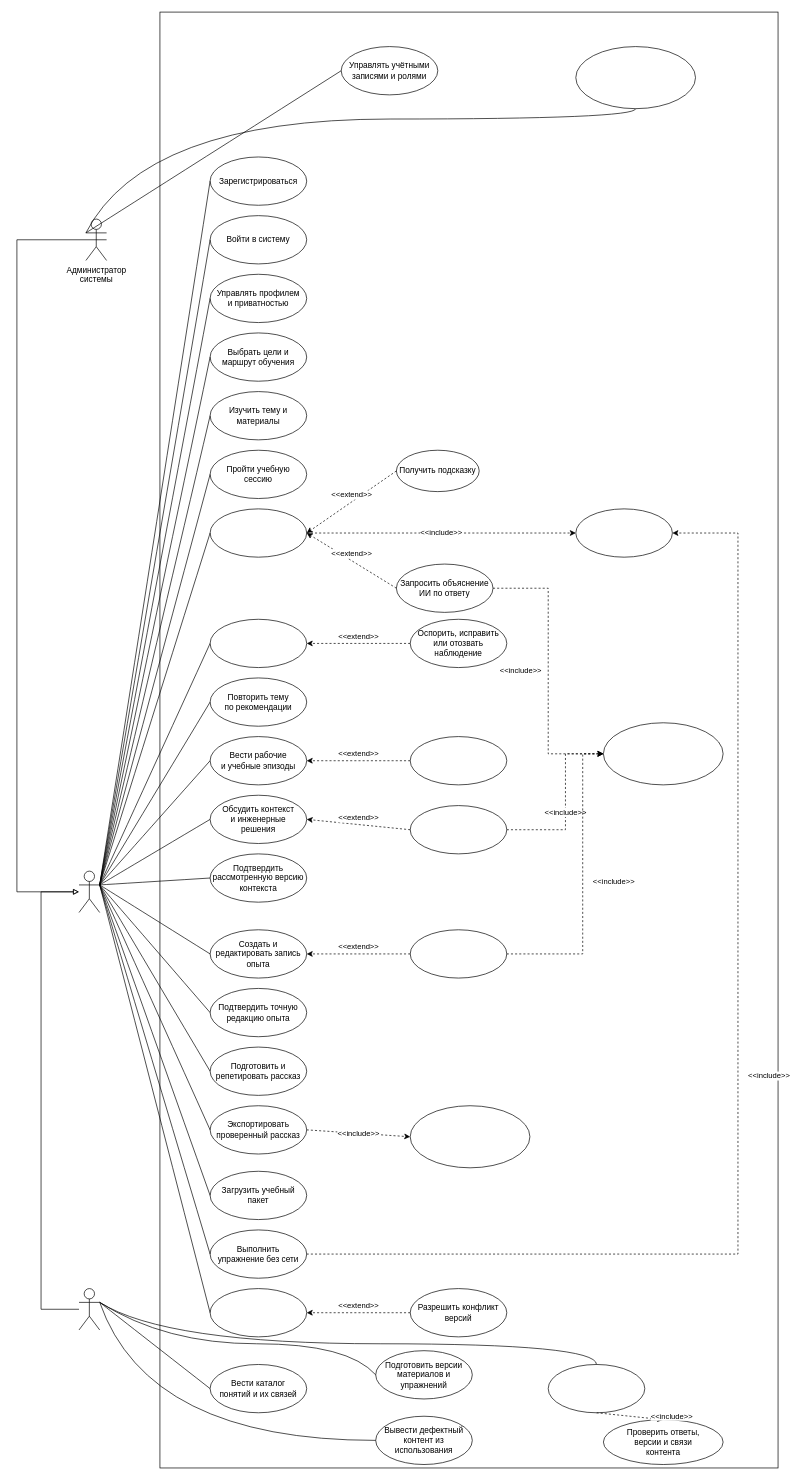
Image size: 802x1480. Some labels were removed from this diagram. The shapes that lost their labels are listed below. From the top down, each one's box as (x1, y1, x2, y2) in pixels, then its label:
(575, 46, 696, 109): Контроль системы, резервное копирование и восстановление
(209, 508, 307, 557): Выполнить упражнение
(575, 508, 672, 557): Сохранить попытку, результат и помощь
(209, 619, 307, 668): Просмотр истории, свидетельств и профиля
(410, 736, 507, 785): Импортировать выбранный контекст из интеграции
(603, 722, 723, 785): Просмотреть и разрешить передачу контекста
(410, 805, 507, 854): Запросить интерпретацию контекста у ИИ
(78, 870, 100, 913): Разработчик (пользователь)
(410, 929, 507, 978): Запросить черновик опыта у ИИ
(410, 1105, 530, 1168): Проверить одобрение редакции опыта и версии рассказа
(78, 1288, 100, 1330): Автор учебных материалов
(209, 1288, 307, 1337): Синхронизировать личные данные
(548, 1364, 645, 1413): Проверить и опубликовать контент
